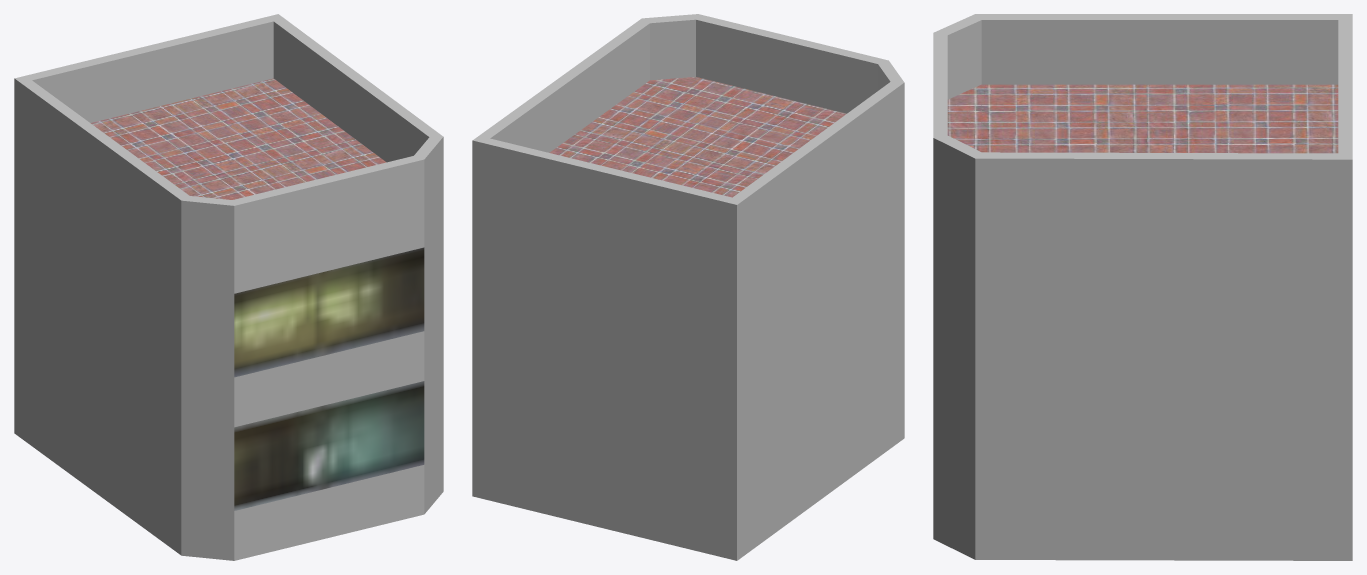
Rendered from hirise_parts01_2f.fbx.
3 renders of one model, left to right at view 1: azimuth 30°, elevation 25°; view 2: azimuth 150°, elevation 25°; view 3: azimuth 270°, elevation 25°, orthographic. The views are drawn at different scales.
Parts seen in each view (by area): view 1: hirise_parts01_2f; view 2: hirise_parts01_2f; view 3: hirise_parts01_2f.
Boxes of the visible parts, x1=… form: hirise_parts01_2f: x1=14, y1=14, x2=443, y2=560; hirise_parts01_2f: x1=472, y1=14, x2=904, y2=560; hirise_parts01_2f: x1=933, y1=14, x2=1352, y2=560.
Size of the model in its own units: 6.4 by 8.23 by 7.8.
